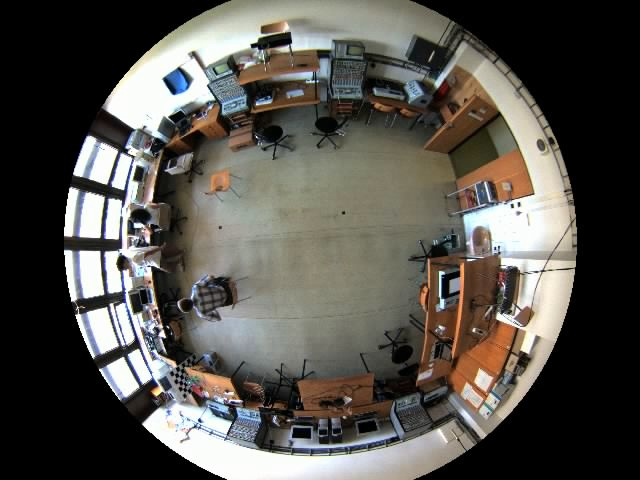person: (110, 233, 193, 282), (178, 274, 237, 320)
